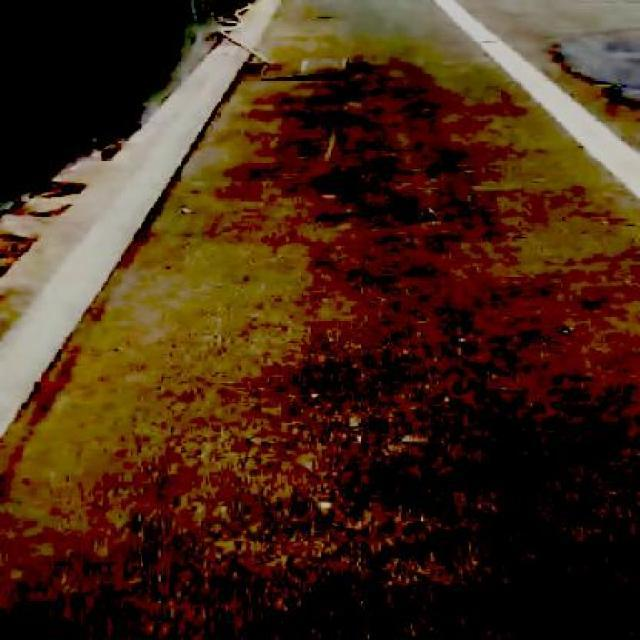Manhole: (260, 58, 349, 80)
